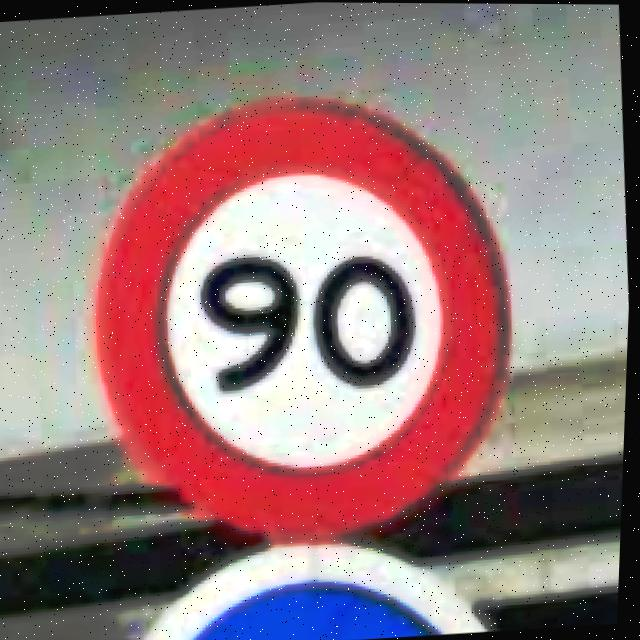max90: (70, 78, 535, 554)
